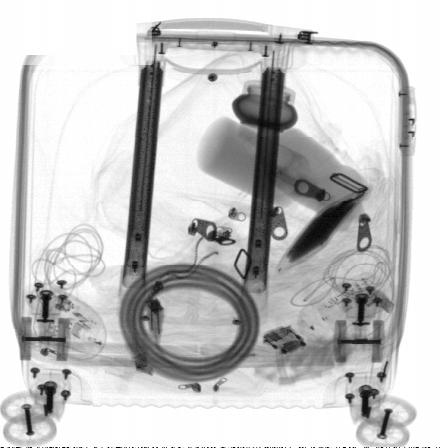Powerbank: (275, 188, 371, 275)
